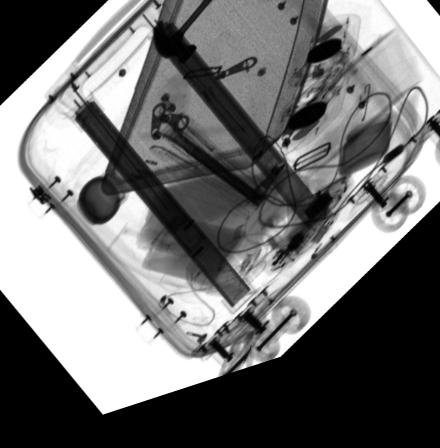Hammer: (151, 0, 227, 77)
